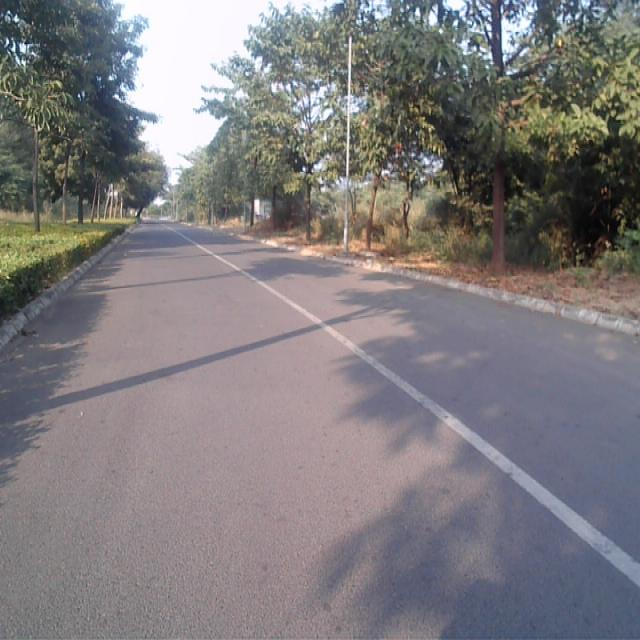lane: (0, 226, 640, 640)
